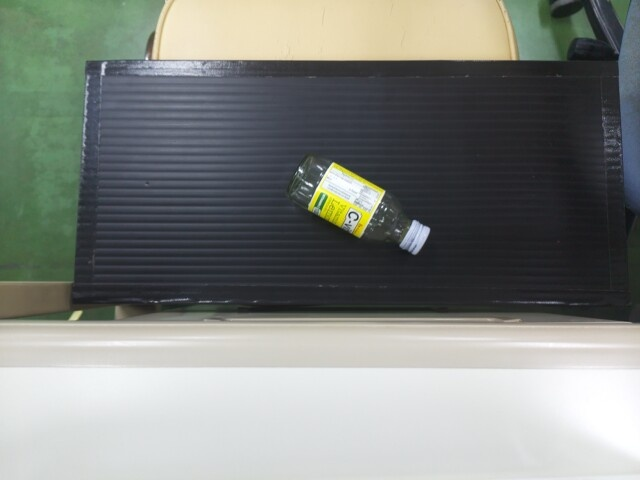glass_bottle: (286, 152, 430, 256)
